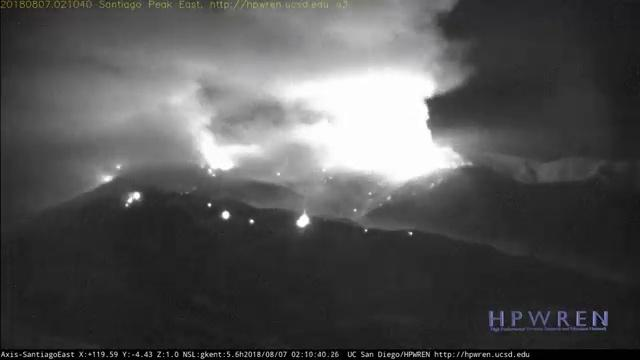smoke: (222, 102, 300, 140)
